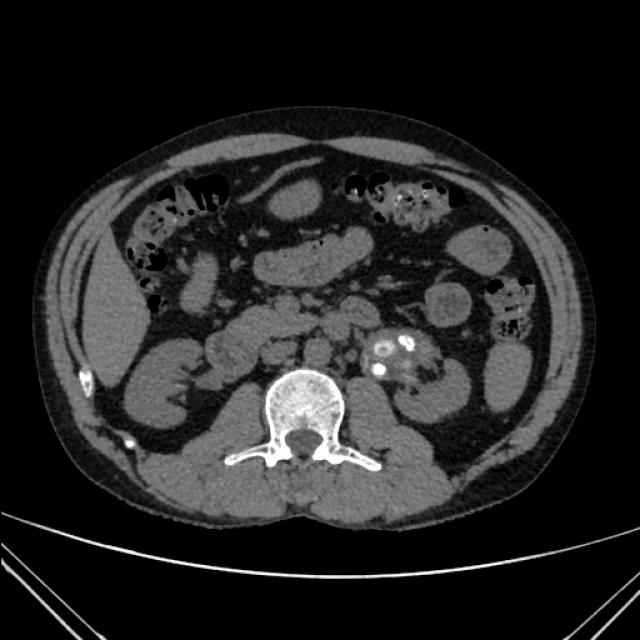kidneystone: (396, 331, 424, 352), (374, 342, 395, 357), (369, 364, 386, 378)
